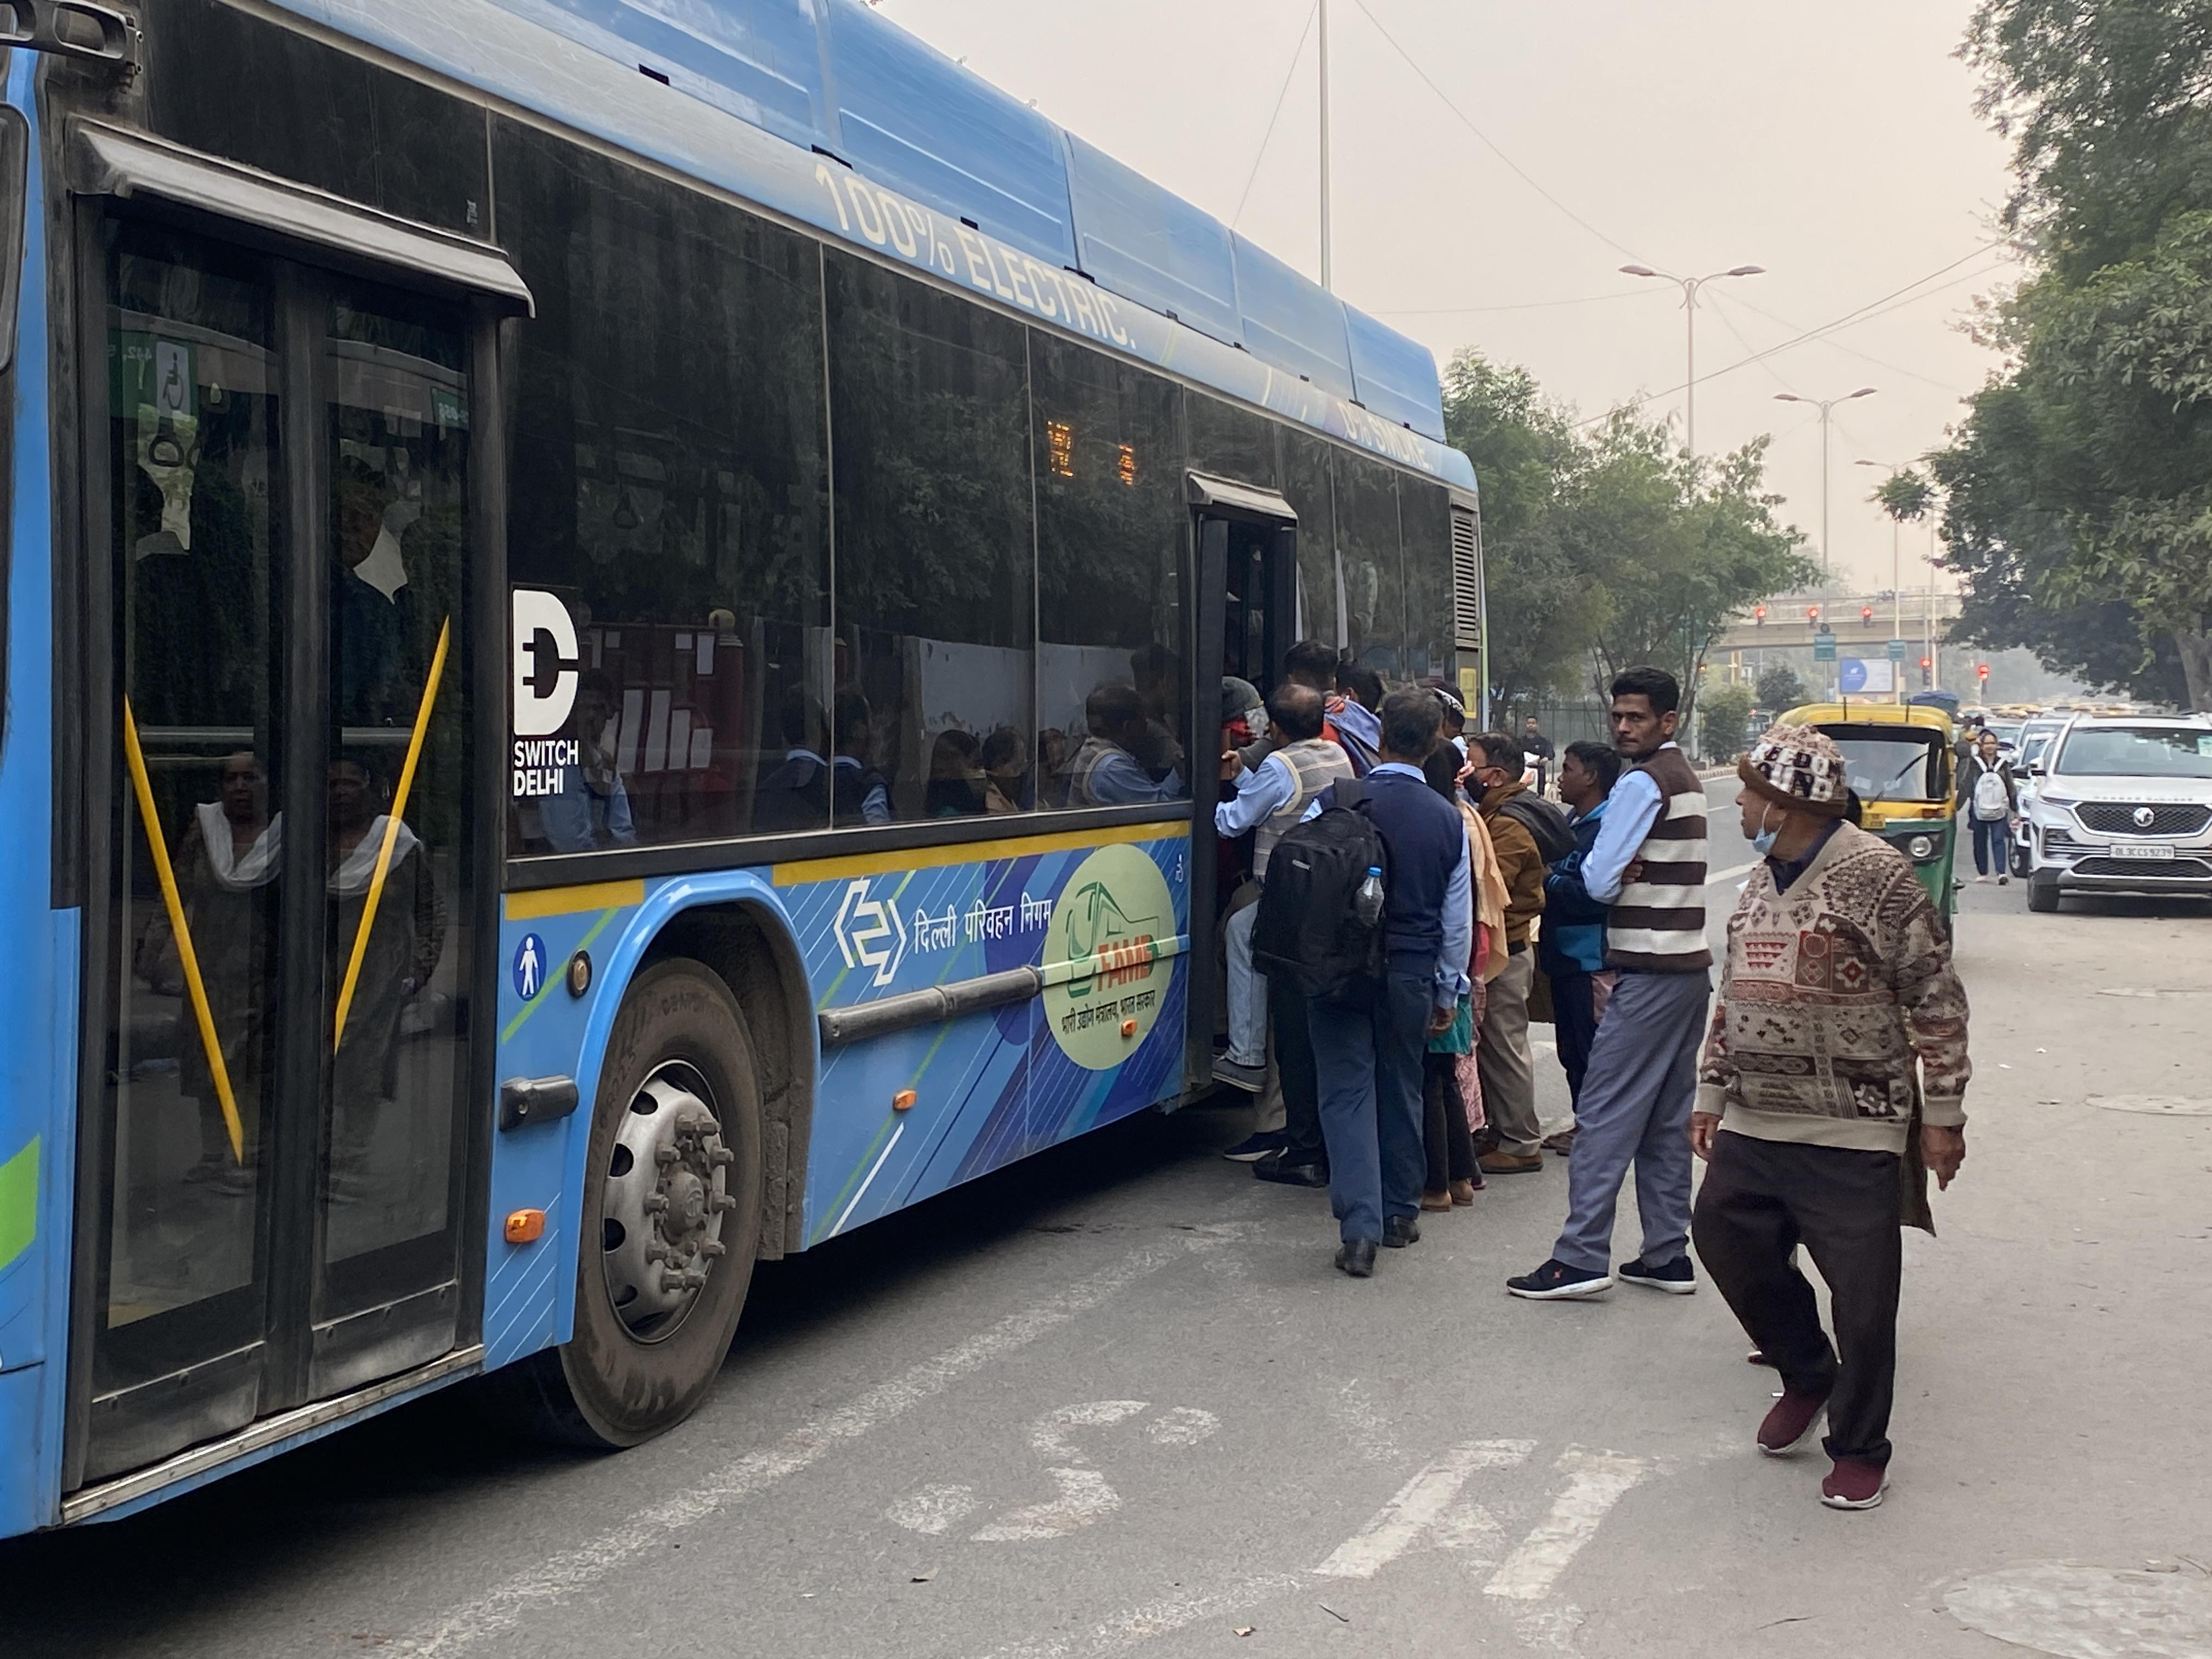Bus: (5, 0, 1569, 1514)
